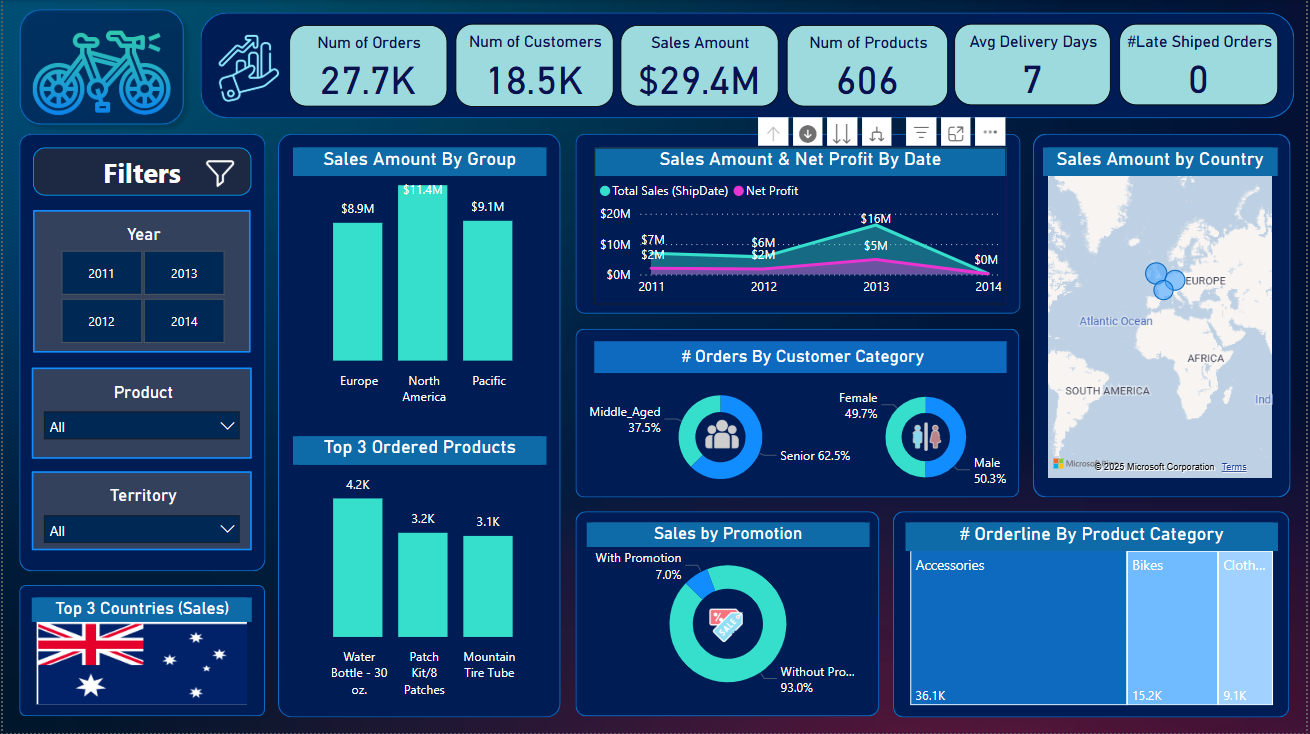

Layout of this report page (visuals, bound fields, positions):
{"tool":"powerbi","page":{"name":"Sales","canvas":[1280,720],"ordinal":0},"visuals":[{"type":"shape","title":"Shape logo","box":[7.4,0,179.1,131.3],"z":0},{"type":"shape","title":"Shape filter","box":[16,131.3,241.7,429.5],"z":1000},{"type":"shape","title":"Shape Bar","box":[269.9,131.3,277.3,573],"z":2000},{"type":"shape","title":"Shape  top","box":[16.2,573.8,241.2,128.8],"z":3000},{"type":"shape","title":"Shape tree","box":[873.6,501.8,389,202.5],"z":4000},{"type":"shape","title":"Shape line","box":[562,131.3,436.8,176.7],"z":5000},{"type":"shape","title":"Shape donut","box":[562,322.7,435.6,165.6],"z":6000},{"type":"shape","title":"Shape  promotion","box":[562,501.8,298.2,201.2],"z":7000},{"type":"shape","title":"Shape R","box":[1011,131.3,252.8,357.1],"z":8000},{"type":"shape","title":"Shape cards","box":[193.8,12.5,1073.8,103.8],"z":9000},{"type":"card","title":"Num of Orders","fields":{"Values":["Count(FactInternetSales.SalesOrderNumber)"]},"box":[281.2,25,155,80],"z":10000},{"type":"card","title":"Num of Customers","fields":{"Values":["Count(DimCustomer.CustomerKey)"]},"box":[443.8,23.8,155,81.2],"z":11000},{"type":"card","title":"Num of Products","fields":{"Values":["CountNonNull(Product.ProductKey)"]},"box":[768.8,25,158.8,80],"z":12000},{"type":"donutChart","title":"#Orders per Gender","fields":{"Category":["DimCustomer.Gender"],"Y":["Count(FactInternetSales.OrderNumber)"]},"box":[813.8,371.2,185,115],"z":13000},{"type":"donutChart","title":"#Orders per Age Category","fields":{"Category":["DimCustomer.AgeCategory"],"Y":["Measures (2).#Orders"]},"box":[562.5,371.2,285,115],"z":14000},{"type":"clusteredColumnChart","title":"Sales Amount By Group","fields":{"Category":["DimSalesTerritory.Territory.Group","DimSalesTerritory.Territory.Country"],"Y":["Sum(FactInternetSales.SalesAmount)"]},"box":[285,145,248.8,260],"z":15000},{"type":"card","title":"Sales Amount","fields":{"Values":["Measures (2).Sales Amount"]},"box":[606.2,25,155,80],"z":16000},{"type":"clusteredColumnChart","title":"Top 3 Ordered Products","fields":{"Category":["Product.ProductName"],"Y":["Sum(FactInternetSales.OrderQuantity)"]},"box":[284.7,428.2,249.1,263.8],"z":17000},{"type":"treemap","title":"# Orderline By Product Category","fields":{"Group":["Product.ProductCategory Hierarchy.ProductCategory","Product.ProductCategory Hierarchy.ProductSubcategory","Product.ProductCategory Hierarchy.ProductName"],"Values":["CountNonNull(FactInternetSales.OrderNumber)"]},"box":[885.9,512.9,365.6,184.1],"z":18000},{"type":"card","title":"Avg Delivery Days","fields":{"Values":["Measures (2).Avg Delivery Days"]},"box":[933.8,23.8,153.8,80],"z":19000},{"type":"card","title":"#Late Shiped Orders","fields":{"Values":["Measures (2).Late Orders Percentage"]},"box":[1096.2,23.8,156.2,80],"z":20000},{"type":"map","fields":{"Size":["Measures (2).Sales Amount"],"Category":["DimSalesTerritory.Country"]},"box":[1021.2,145,230,330],"z":21000},{"type":"slicer","title":"Product ","fields":{"Values":["Product.ProductCategory Hierarchy.ProductCategory","Product.ProductCategory Hierarchy.ProductSubcategory","Product.ProductCategory Hierarchy.ProductName"]},"box":[28.2,360.7,216,89.6],"z":22000},{"type":"slicer","title":"Territory ","fields":{"Values":["DimSalesTerritory.Territory.Group","DimSalesTerritory.Territory.Country","DimSalesTerritory.Territory.Region"]},"box":[28.2,462.6,216,77.3],"z":23000},{"type":"slicer","title":"Year ","fields":{"Values":["DimDate.Year"]},"box":[30,206.2,213.8,140],"z":24000},{"type":"textbox","box":[29.2,144.7,214.3,47.3],"z":25000},{"type":"donutChart","title":"Sales by Promotion","fields":{"Category":["FactInternetSales.SalesCategory"],"Y":["Measures (2).Sales Amount"]},"box":[572.5,512.5,277.5,180],"z":26000},{"type":"image","box":[679.8,592.6,60.1,42.9],"z":27000},{"type":"image","box":[878.8,410,56.2,37.5],"z":28000},{"type":"image","box":[682.5,405,47.5,42.5],"z":29000},{"type":"image","box":[181.4,148.6,62.9,42.9],"z":30000},{"type":"image","box":[180,30,128.6,75.7],"z":31000},{"type":"ImageCarouselByMAQSoftware1448688110701","title":"Top 3 Countries (Sales)","fields":{"ImageData":["DimSalesTerritory.CountryFlagURL"]},"box":[28.8,586.2,216.2,110],"z":32000},{"type":"textbox","box":[580,335,405,31.2],"z":33000},{"type":"areaChart","title":"Sales Amount & Net Profit By Date","fields":{"Category":["DimDate.Date.Variation.Date Hierarchy.Year","DimDate.Date.Variation.Date Hierarchy.Month","DimDate.Date.Variation.Date Hierarchy.Day"],"Y":["Measures (2).Total Sales (ShipDate)","Measures (2).Net Profit"]},"box":[580.2,144.7,404.9,154.4],"z":34000},{"type":"image","box":[3.7,0,186.5,144.8],"z":35000}]}

Visuals, with their boxes in screenshot pixels (x1, y1, x2, y2), scaled from the page's 1280x720 canvas onto the 1310x734 screenshot:
"Shape logo" shape: (x1=8, y1=0, x2=191, y2=134)
"Shape filter" shape: (x1=16, y1=134, x2=264, y2=572)
"Shape Bar" shape: (x1=276, y1=134, x2=560, y2=718)
"Shape  top" shape: (x1=17, y1=585, x2=263, y2=716)
"Shape tree" shape: (x1=894, y1=512, x2=1292, y2=718)
"Shape line" shape: (x1=575, y1=134, x2=1022, y2=314)
"Shape donut" shape: (x1=575, y1=329, x2=1021, y2=498)
"Shape  promotion" shape: (x1=575, y1=512, x2=880, y2=717)
"Shape R" shape: (x1=1035, y1=134, x2=1293, y2=498)
"Shape cards" shape: (x1=198, y1=13, x2=1297, y2=119)
"Num of Orders" card: (x1=288, y1=25, x2=446, y2=107)
"Num of Customers" card: (x1=454, y1=24, x2=613, y2=107)
"Num of Products" card: (x1=787, y1=25, x2=949, y2=107)
"#Orders per Gender" donutChart: (x1=833, y1=378, x2=1022, y2=496)
"#Orders per Age Category" donutChart: (x1=576, y1=378, x2=867, y2=496)
"Sales Amount By Group" clusteredColumnChart: (x1=292, y1=148, x2=546, y2=413)
"Sales Amount" card: (x1=620, y1=25, x2=779, y2=107)
"Top 3 Ordered Products" clusteredColumnChart: (x1=291, y1=437, x2=546, y2=705)
"# Orderline By Product Category" treemap: (x1=907, y1=523, x2=1281, y2=711)
"Avg Delivery Days" card: (x1=956, y1=24, x2=1113, y2=106)
"#Late Shiped Orders" card: (x1=1122, y1=24, x2=1282, y2=106)
map - Measures (2).Sales Amount x DimSalesTerritory.Country: (x1=1045, y1=148, x2=1281, y2=484)
"Product " slicer: (x1=29, y1=368, x2=250, y2=459)
"Territory " slicer: (x1=29, y1=472, x2=250, y2=550)
"Year " slicer: (x1=31, y1=210, x2=250, y2=353)
textbox: (x1=30, y1=148, x2=249, y2=196)
"Sales by Promotion" donutChart: (x1=586, y1=522, x2=870, y2=706)
image: (x1=696, y1=604, x2=757, y2=648)
image: (x1=899, y1=418, x2=957, y2=456)
image: (x1=698, y1=413, x2=747, y2=456)
image: (x1=186, y1=151, x2=250, y2=195)
image: (x1=184, y1=31, x2=316, y2=108)
"Top 3 Countries (Sales)" ImageCarouselByMAQSoftware1448688110701: (x1=29, y1=598, x2=251, y2=710)
textbox: (x1=594, y1=342, x2=1008, y2=373)
"Sales Amount & Net Profit By Date" areaChart: (x1=594, y1=148, x2=1008, y2=305)
image: (x1=4, y1=0, x2=195, y2=148)
